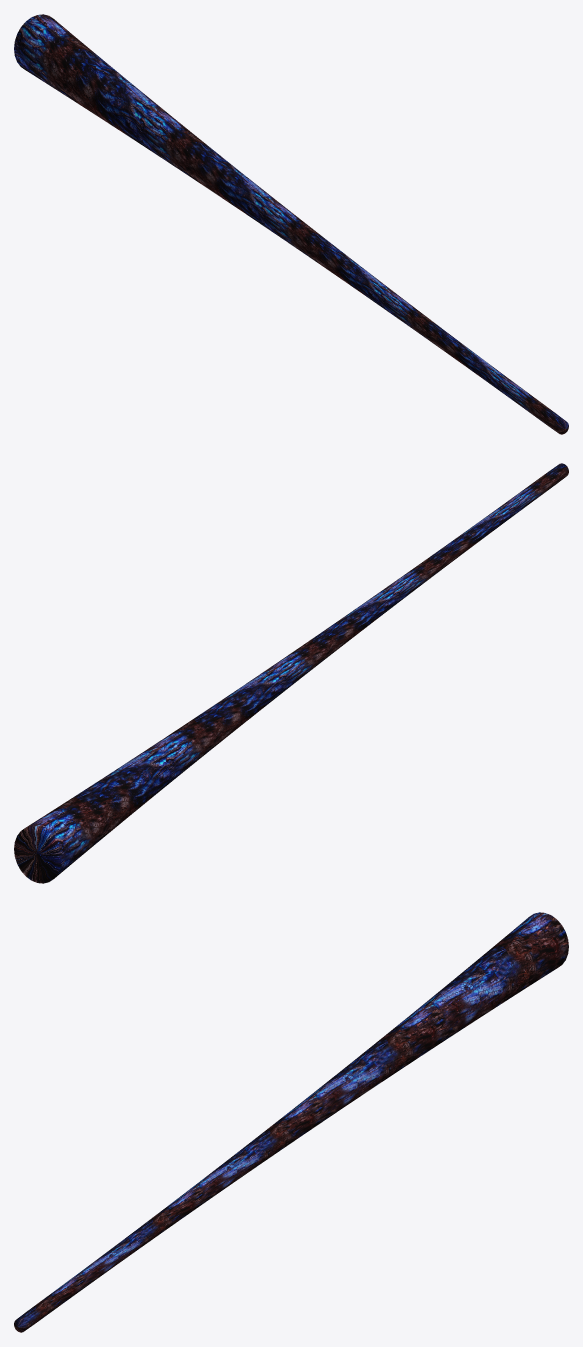
File: Em_001_tatarigami_01_02.fbx
3 renders of one model, top to bottom at view 1: azimuth 30°, elevation 25°; view 2: azimuth 150°, elevation 25°; view 3: azimuth 330°, elevation 25°, orthographic.
Parts seen in each view (by area): view 1: Cylinder001; view 2: Cylinder001; view 3: Cylinder001.
Part boxes in pixels (<box>): Cylinder001: <box>14,14,568,434</box>; Cylinder001: <box>14,463,568,883</box>; Cylinder001: <box>14,912,568,1332</box>.
Size of the model in its own units: 30.5 by 34.93 by 595.
